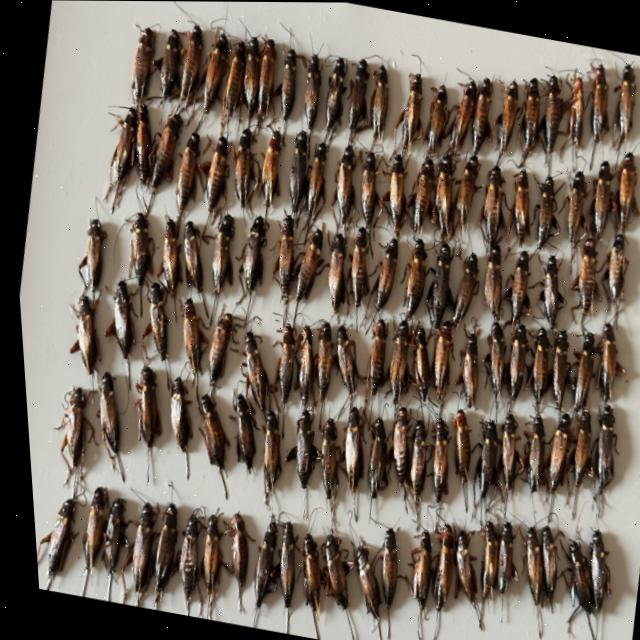egg: (144, 113, 180, 215), (287, 226, 321, 327), (317, 530, 348, 640), (54, 386, 86, 480), (237, 216, 263, 329), (422, 523, 447, 640), (193, 395, 221, 499), (231, 216, 263, 305), (144, 501, 170, 610), (108, 108, 135, 212), (268, 214, 293, 326), (93, 371, 118, 481), (465, 419, 491, 523), (346, 542, 373, 640), (346, 543, 373, 640), (586, 403, 609, 515), (218, 41, 245, 134), (143, 280, 166, 389), (96, 497, 120, 601), (124, 502, 147, 606), (149, 114, 180, 190), (542, 412, 564, 519), (108, 280, 130, 387), (517, 526, 538, 637), (173, 132, 197, 228), (558, 540, 583, 632), (449, 157, 476, 242), (585, 63, 607, 167), (171, 512, 193, 615), (557, 69, 583, 155), (40, 498, 67, 580), (338, 406, 357, 521), (565, 409, 585, 517), (422, 242, 447, 328), (67, 294, 93, 375), (177, 298, 202, 382), (55, 387, 81, 467), (201, 33, 227, 113), (395, 72, 421, 151), (396, 71, 421, 153), (130, 365, 155, 447), (291, 229, 319, 302), (476, 165, 500, 250), (489, 520, 510, 617), (246, 519, 269, 607), (515, 77, 538, 165), (610, 64, 634, 148), (77, 486, 101, 570), (165, 377, 185, 477), (194, 395, 221, 469), (220, 512, 240, 611), (448, 80, 475, 153), (448, 252, 474, 327), (405, 158, 431, 233), (93, 371, 113, 468), (501, 323, 523, 411), (294, 532, 312, 639), (346, 58, 368, 144), (585, 160, 609, 238), (346, 226, 364, 330), (238, 215, 262, 293), (240, 330, 264, 408), (130, 28, 154, 105), (425, 523, 446, 610), (402, 529, 423, 616), (565, 170, 584, 265), (314, 417, 331, 523), (179, 24, 202, 102), (448, 529, 469, 614), (195, 514, 212, 619), (255, 39, 275, 127), (542, 412, 564, 492), (227, 392, 249, 472), (403, 420, 420, 523), (303, 142, 324, 225), (401, 238, 423, 317), (208, 214, 230, 293), (473, 520, 492, 610), (257, 409, 275, 504), (371, 237, 394, 311), (615, 152, 636, 233), (384, 319, 404, 404), (368, 62, 387, 151), (542, 74, 559, 173), (272, 521, 287, 633), (374, 528, 389, 639), (204, 313, 227, 385), (338, 405, 357, 492), (602, 233, 624, 308), (204, 135, 226, 210), (573, 237, 593, 319), (470, 77, 491, 155), (290, 410, 311, 488), (317, 534, 339, 608), (242, 37, 260, 127), (362, 318, 382, 399), (484, 321, 500, 421), (383, 153, 403, 233), (582, 529, 601, 613), (259, 130, 280, 206), (526, 327, 545, 410), (324, 57, 345, 132), (81, 219, 103, 290), (454, 155, 476, 226), (592, 322, 612, 400), (569, 331, 589, 409), (143, 282, 163, 360), (287, 130, 306, 211), (534, 174, 555, 247), (127, 212, 148, 285), (448, 408, 463, 510), (429, 320, 447, 405), (433, 151, 450, 241), (496, 79, 516, 155), (387, 406, 403, 501), (362, 417, 381, 497), (423, 83, 445, 152), (328, 165, 352, 228), (614, 64, 634, 139), (324, 57, 345, 128), (539, 255, 560, 326), (333, 145, 352, 223), (290, 326, 309, 404), (347, 58, 367, 132), (159, 29, 180, 99), (332, 324, 353, 394), (504, 323, 523, 400), (589, 63, 607, 144), (507, 250, 525, 331), (272, 323, 290, 404), (232, 128, 250, 208), (478, 420, 496, 499), (158, 216, 176, 295), (567, 76, 582, 167), (347, 226, 364, 306), (324, 233, 341, 313), (565, 170, 584, 241), (521, 413, 538, 492), (484, 321, 501, 400), (369, 64, 387, 138), (302, 54, 320, 128), (480, 244, 498, 318), (275, 215, 290, 303), (358, 152, 376, 225), (533, 524, 549, 606), (386, 406, 402, 488), (527, 326, 544, 403), (180, 221, 198, 293), (408, 325, 425, 401), (565, 171, 583, 242), (427, 418, 442, 502), (134, 105, 150, 183), (475, 419, 491, 496), (374, 527, 389, 609), (311, 320, 326, 401), (548, 329, 563, 408), (496, 411, 511, 489), (457, 333, 473, 406), (511, 168, 526, 244), (448, 409, 464, 480), (280, 48, 295, 120), (387, 108, 403, 160), (406, 190, 423, 230), (133, 181, 149, 216), (173, 1, 197, 21), (136, 322, 147, 364), (416, 198, 434, 223), (29, 532, 43, 561), (113, 543, 126, 574), (361, 485, 368, 520), (112, 565, 118, 604), (410, 608, 418, 636), (242, 605, 251, 628), (100, 318, 111, 336), (295, 483, 300, 520), (140, 446, 144, 484), (566, 274, 575, 289), (75, 254, 83, 270), (566, 305, 574, 320), (492, 112, 501, 124), (410, 618, 414, 640), (610, 268, 617, 275), (335, 166, 339, 178), (162, 55, 166, 65), (105, 522, 108, 535), (483, 552, 488, 558), (110, 526, 112, 533), (367, 520, 370, 523)
